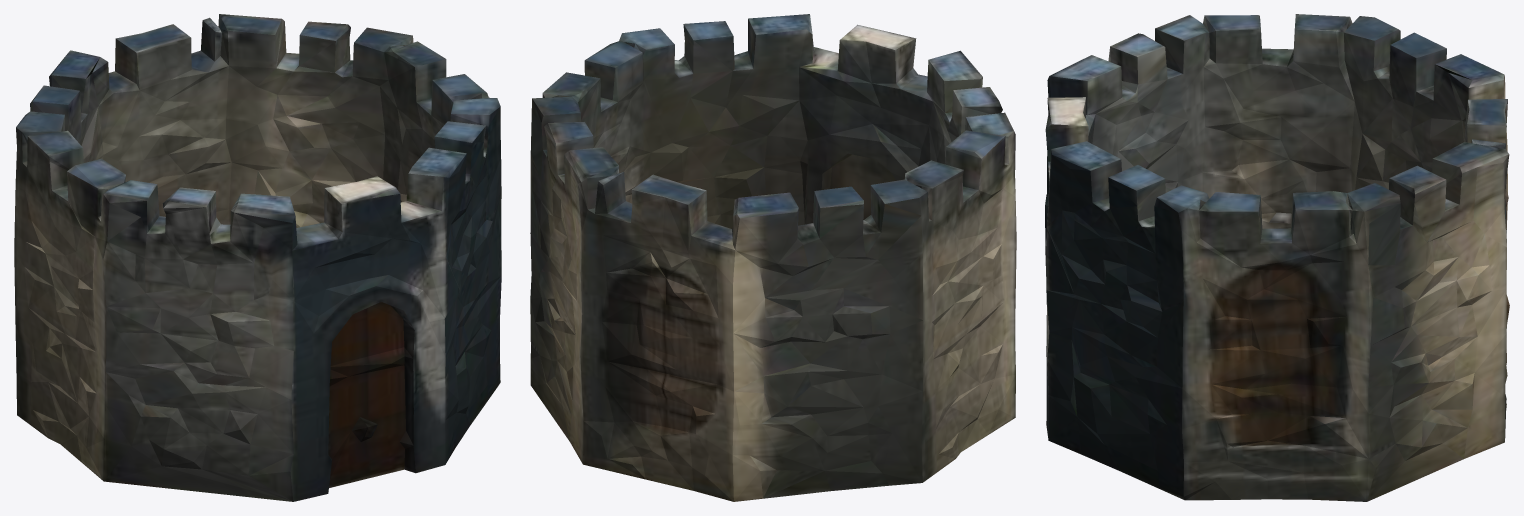
File: tower_octagon_wall_lod1.glb
3 renders of one model, left to right at view 1: azimuth 30°, elevation 25°; view 2: azimuth 150°, elevation 25°; view 3: azimuth 270°, elevation 25°, orthographic.
Visible parts, largest first — view 1: tower_octagon_wall_lod1; view 2: tower_octagon_wall_lod1; view 3: tower_octagon_wall_lod1.
Boxes of the visible parts, x1,y1,x2,y2 form: tower_octagon_wall_lod1: [14, 14, 501, 501]; tower_octagon_wall_lod1: [530, 14, 1016, 501]; tower_octagon_wall_lod1: [1045, 14, 1509, 501].
Size of the model in its own units: 11.45 by 7.96 by 11.37.
Materials: 1 (1 with a texture image).
